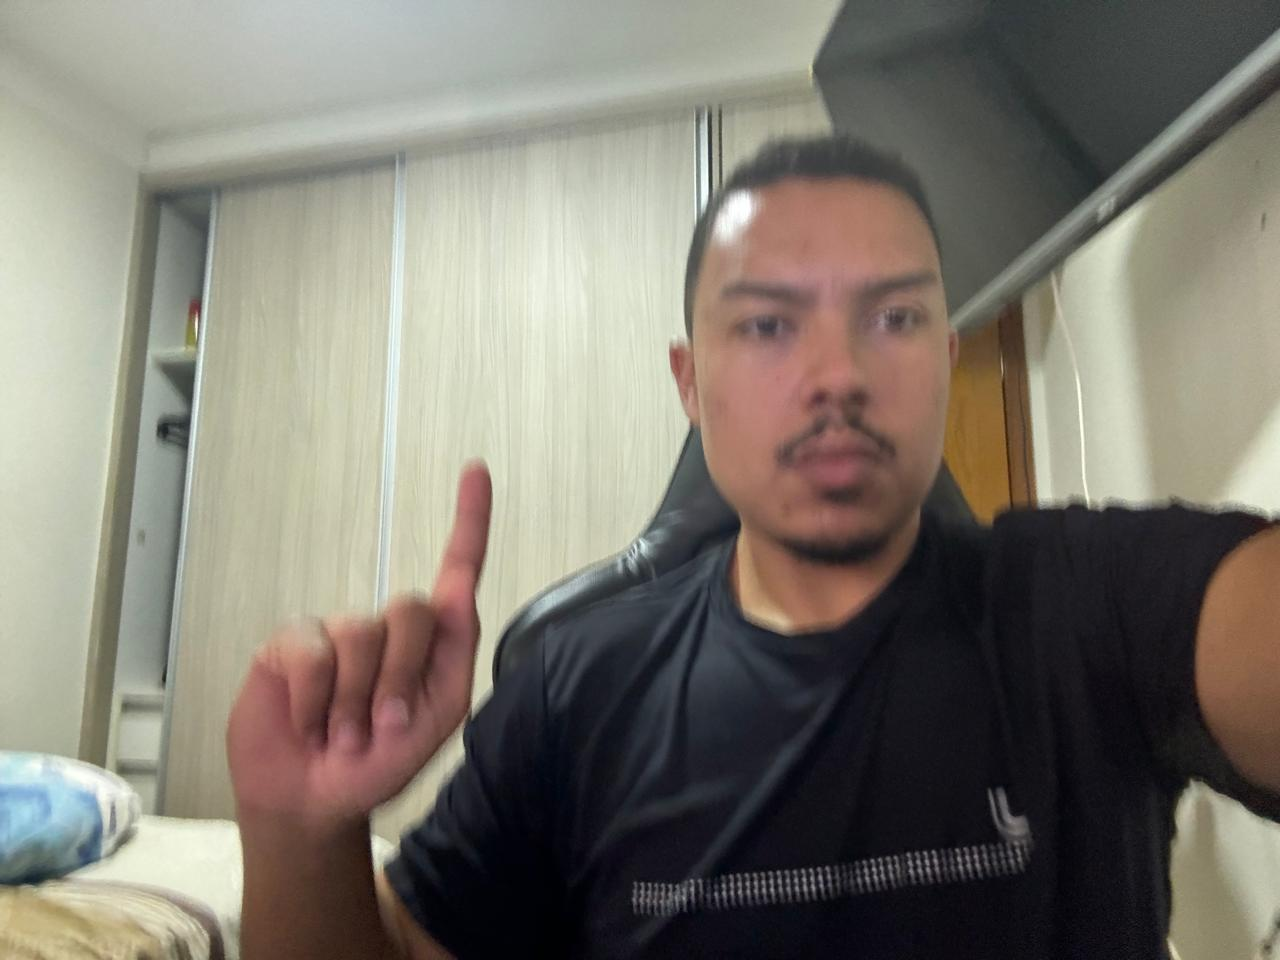g: (217, 451, 499, 825)
